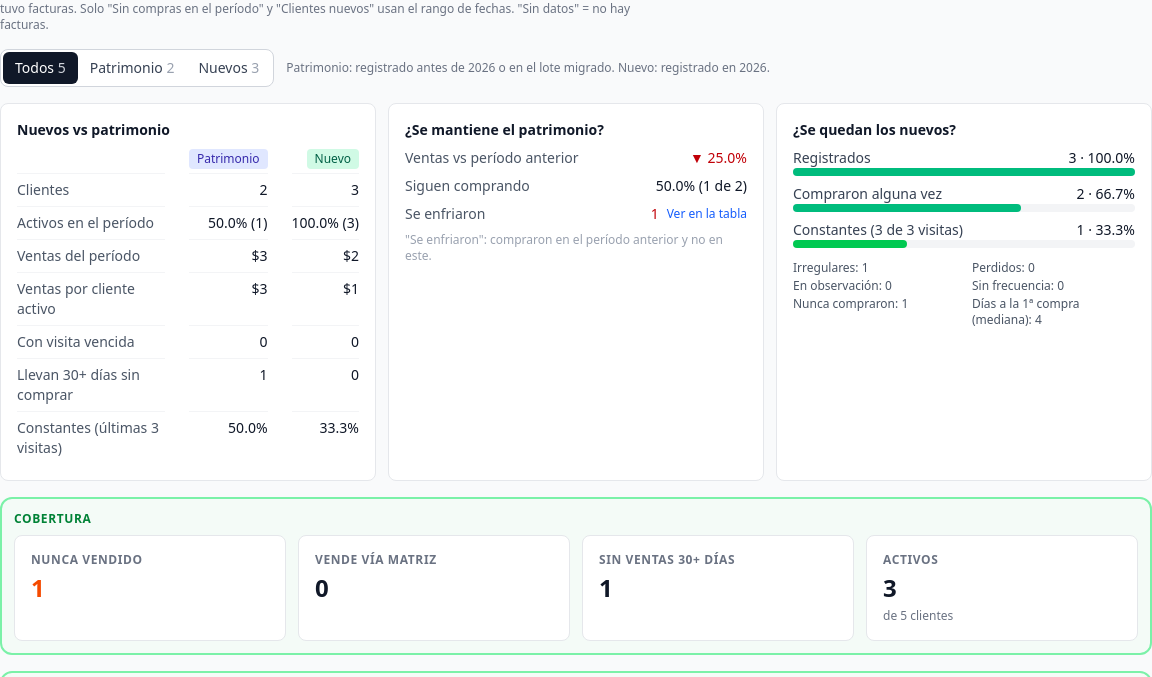
CoberturaClientes: nuevos vs patrimonio › "¿Se mantiene el patrimonio?" shows the delta and the cooled customers, and the button filters the table to them
Expected: the element "¿Se mantiene el patrimonio?" shows "▼ 25.0%", [690, 148, 747, 167]
Step 1. Click the button "Ver en la tabla" → point(707, 214), box [667, 206, 747, 222]
(page scrolled)
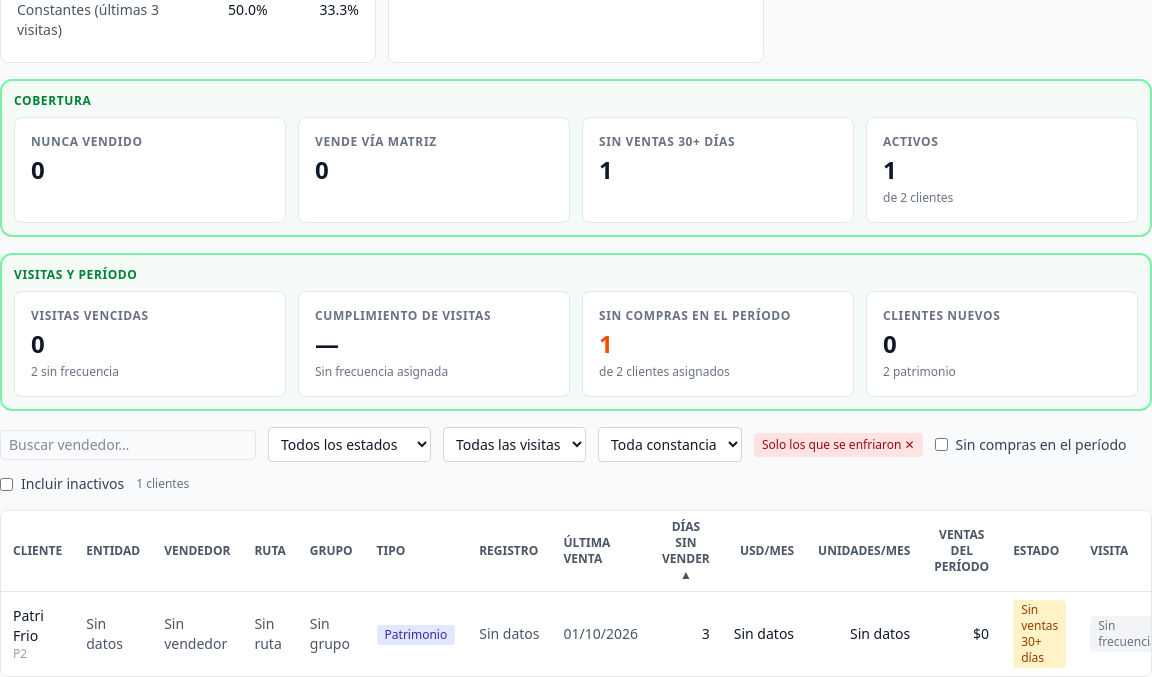
Expected: the cell "Patri Frio P2" is shown, [1, 592, 74, 676]
Now the button "Solo los que se enfriaron ✕" is shown, box [754, 432, 922, 456]
Now the heading "¿Se quedan los nuevos?" is gone
